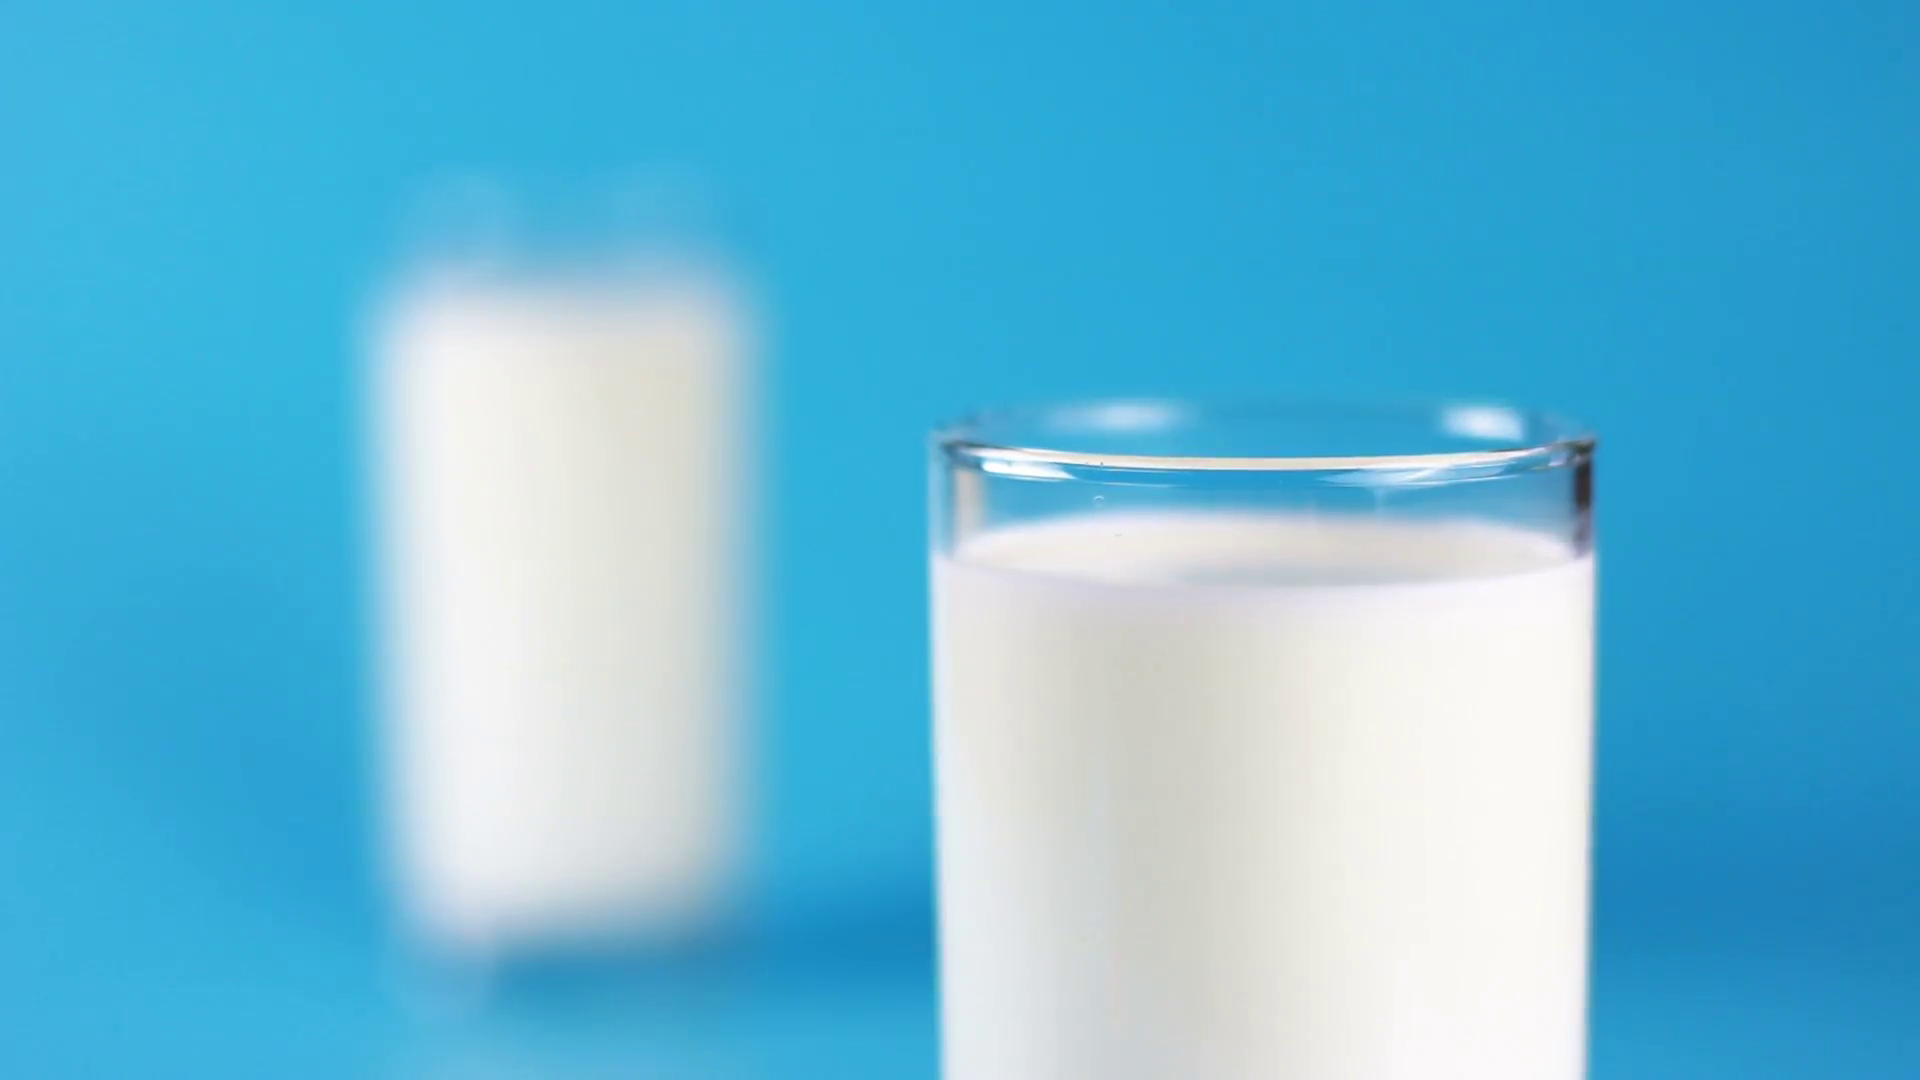glass of milk: (928, 417, 1582, 1080)
